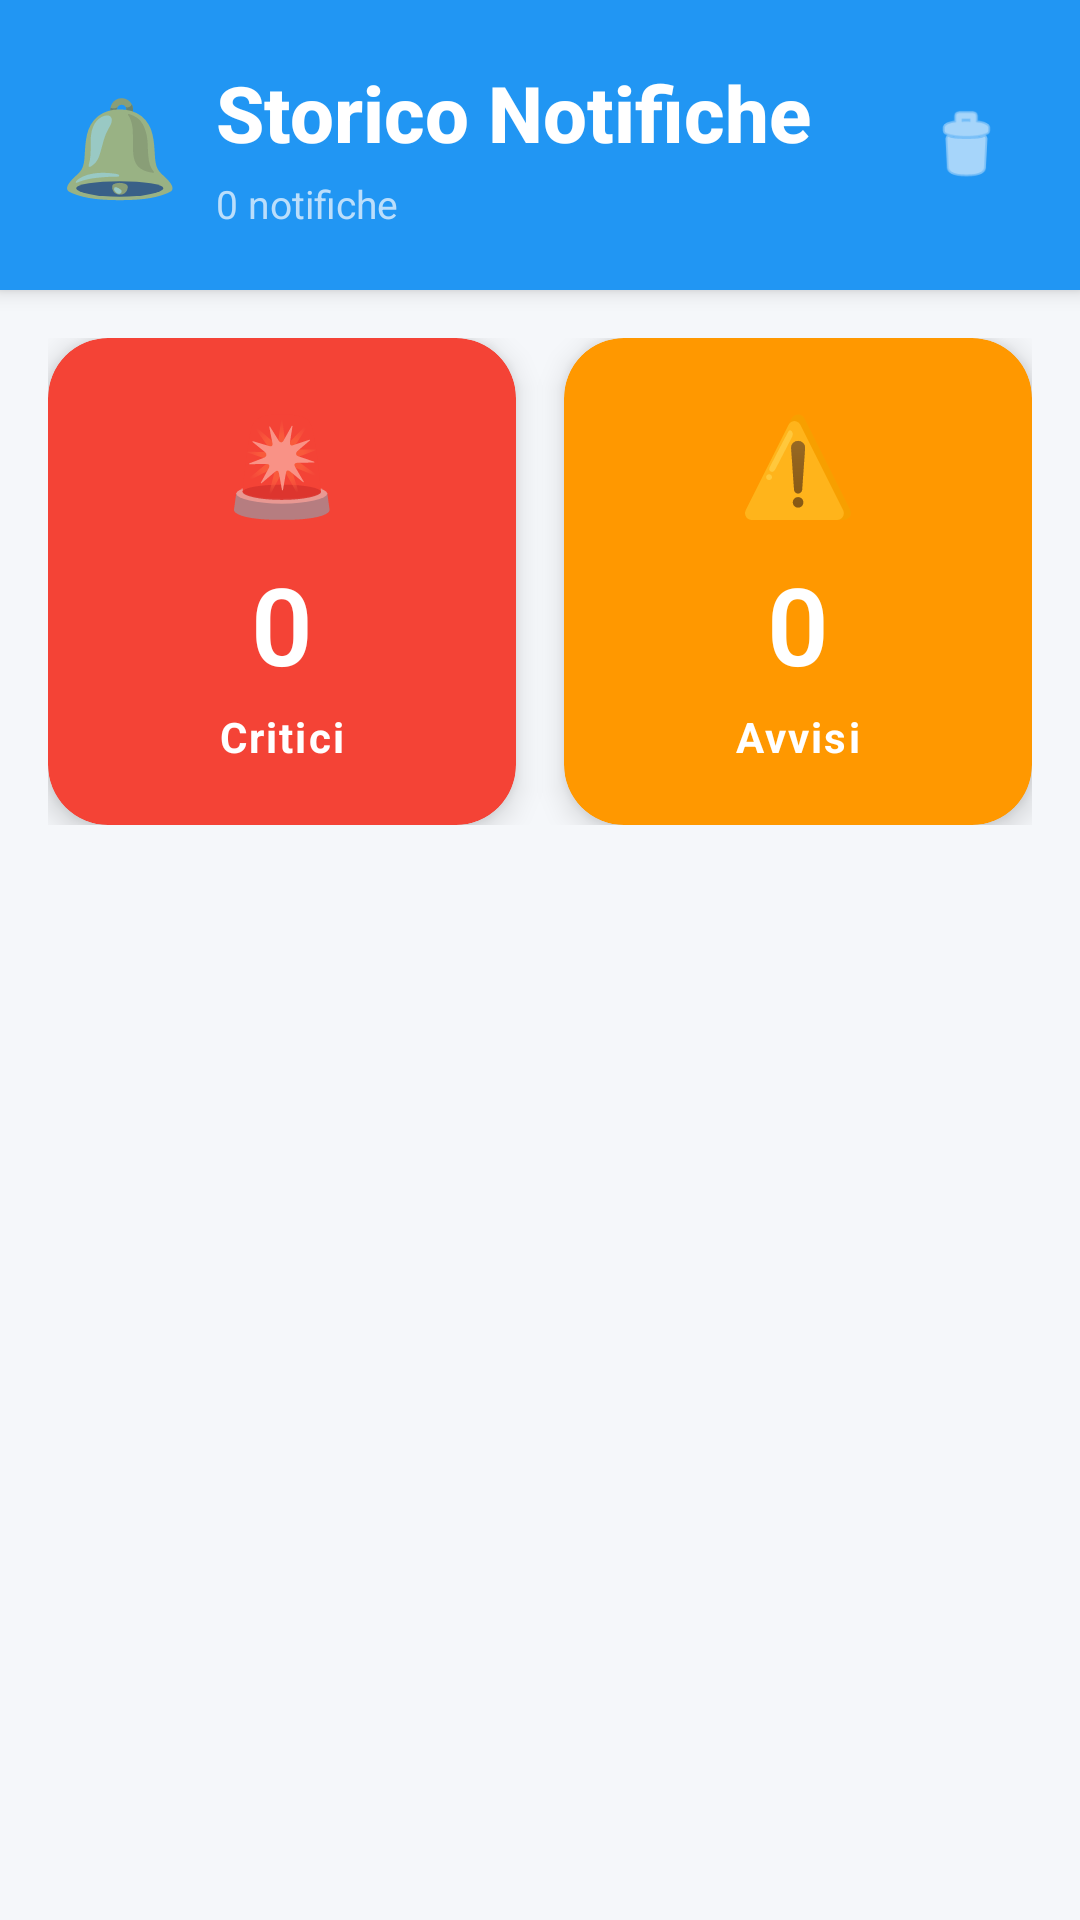

Point at icon controls on the screen. Image size 1080px x 1920px, points as [x,y].
delete: [966,144]
